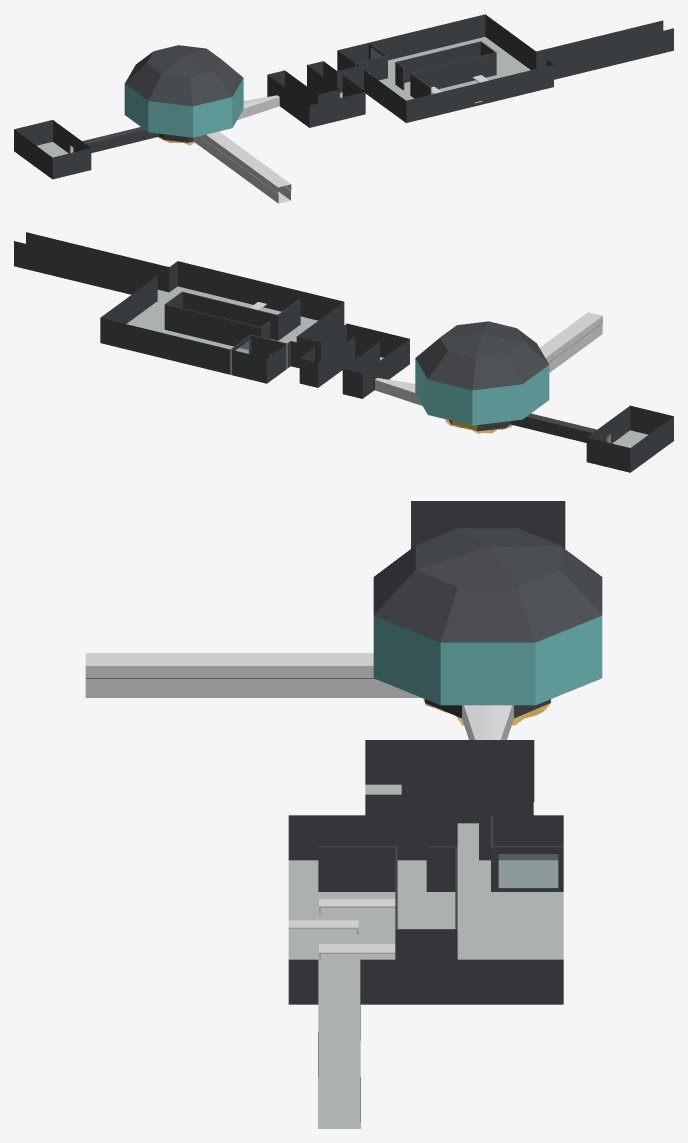
The model's file is segunda pantalla.fbx.
3 views of the same model, one above another, from view 1: azimuth 30°, elevation 25°; view 2: azimuth 150°, elevation 25°; view 3: azimuth 270°, elevation 25° (orthographic). The views are drawn at different scales.
Parts seen in each view (by area): view 1: Laboratorio; view 2: Laboratorio; view 3: Laboratorio.
Part boxes in pixels (left/top/right/bottom): Laboratorio: left=14, top=14, right=673, bottom=203; Laboratorio: left=14, top=232, right=673, bottom=472; Laboratorio: left=85, top=501, right=602, bottom=1128.
Size of the model in its own units: 50776 by 6182 by 18998.
